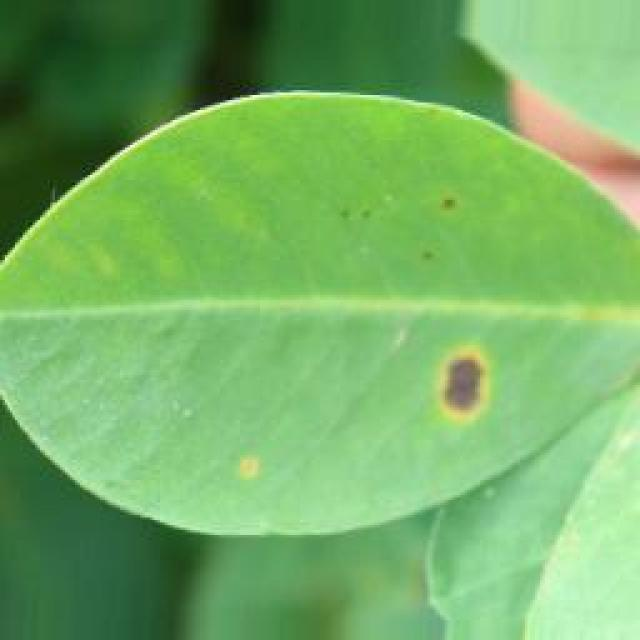Early_leaf_spot: (379, 185, 514, 308), (420, 330, 501, 449), (207, 442, 277, 497)
